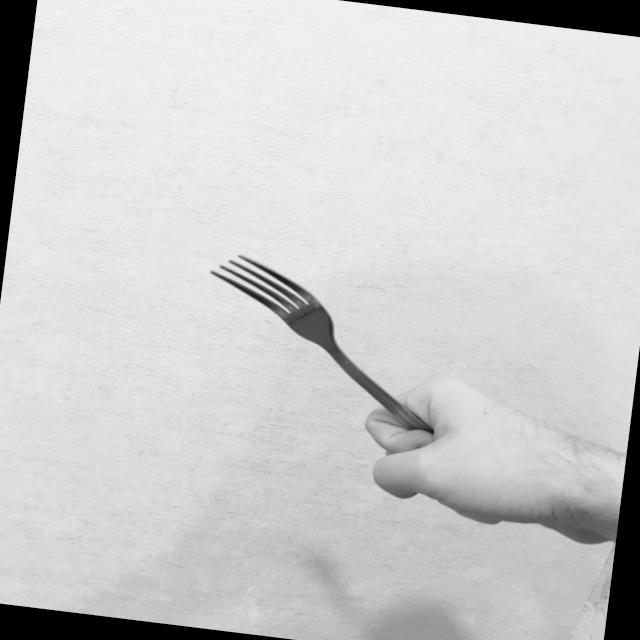fork: (184, 245, 465, 468)
